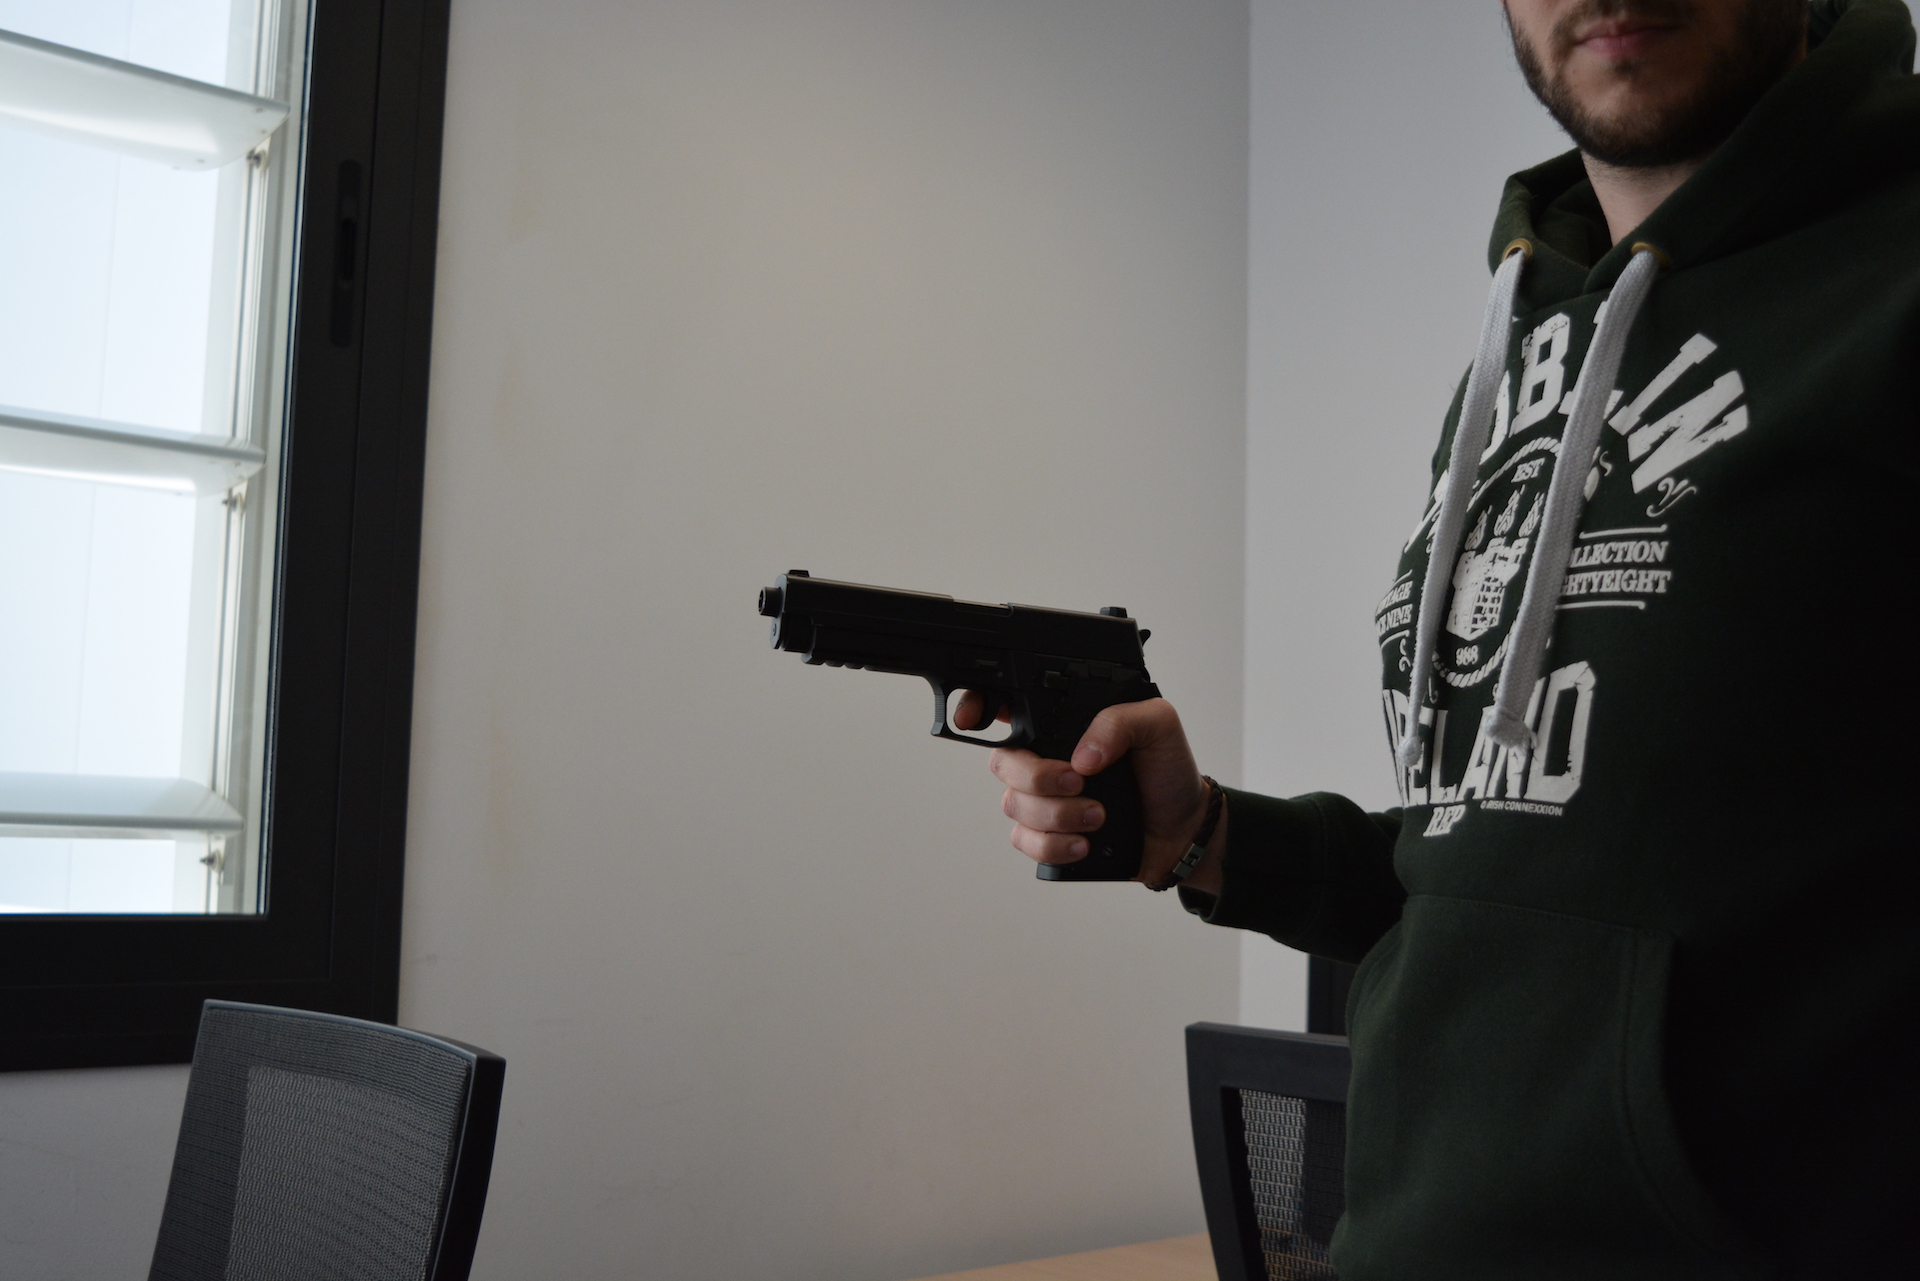pistol: (755, 565, 1168, 886)
